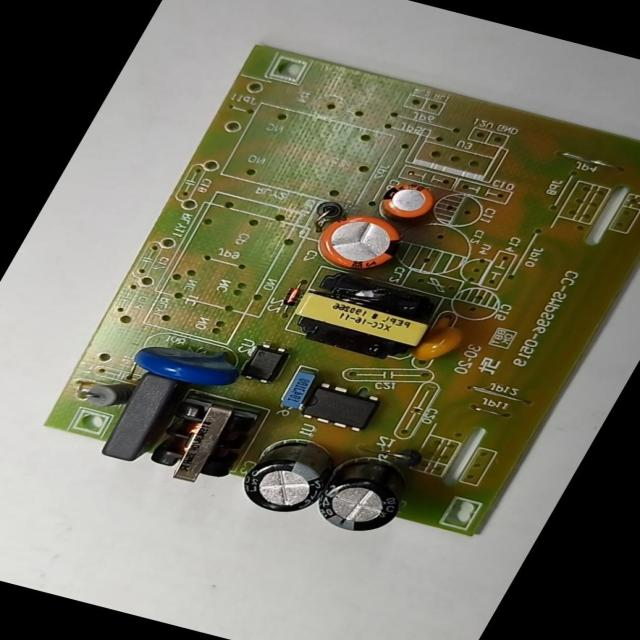Cap1: (298, 198, 428, 283)
Cap2: (358, 173, 454, 234)
Cap3: (221, 428, 359, 523)
Cap4: (296, 441, 431, 546)
MOSFET: (282, 374, 397, 442)
Mov: (110, 320, 264, 400)
Resistor: (69, 370, 140, 418)
Transformer: (274, 260, 458, 371), (134, 386, 274, 494)
